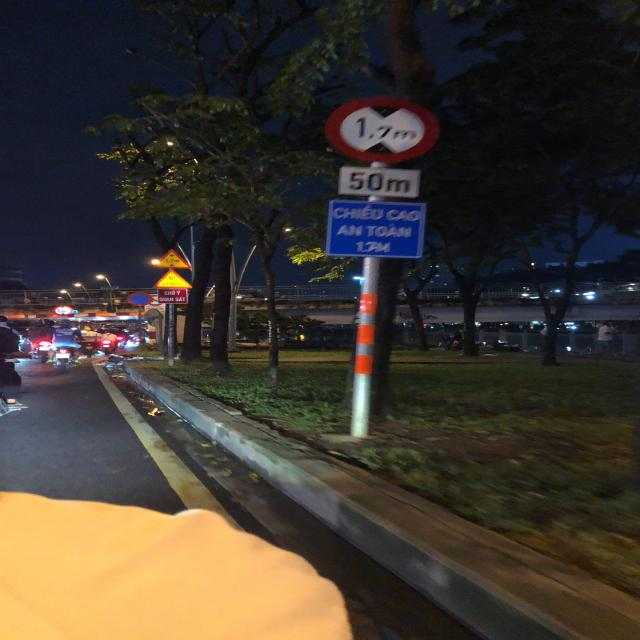Bien bao cam dung xe va do xe: (125, 290, 154, 308)
Bien bao chieu cao tinh khong thuc te: (148, 248, 194, 269)
Bien bao di cham: (153, 269, 197, 290)
Bien bao han che chieu cao: (322, 92, 436, 160)
